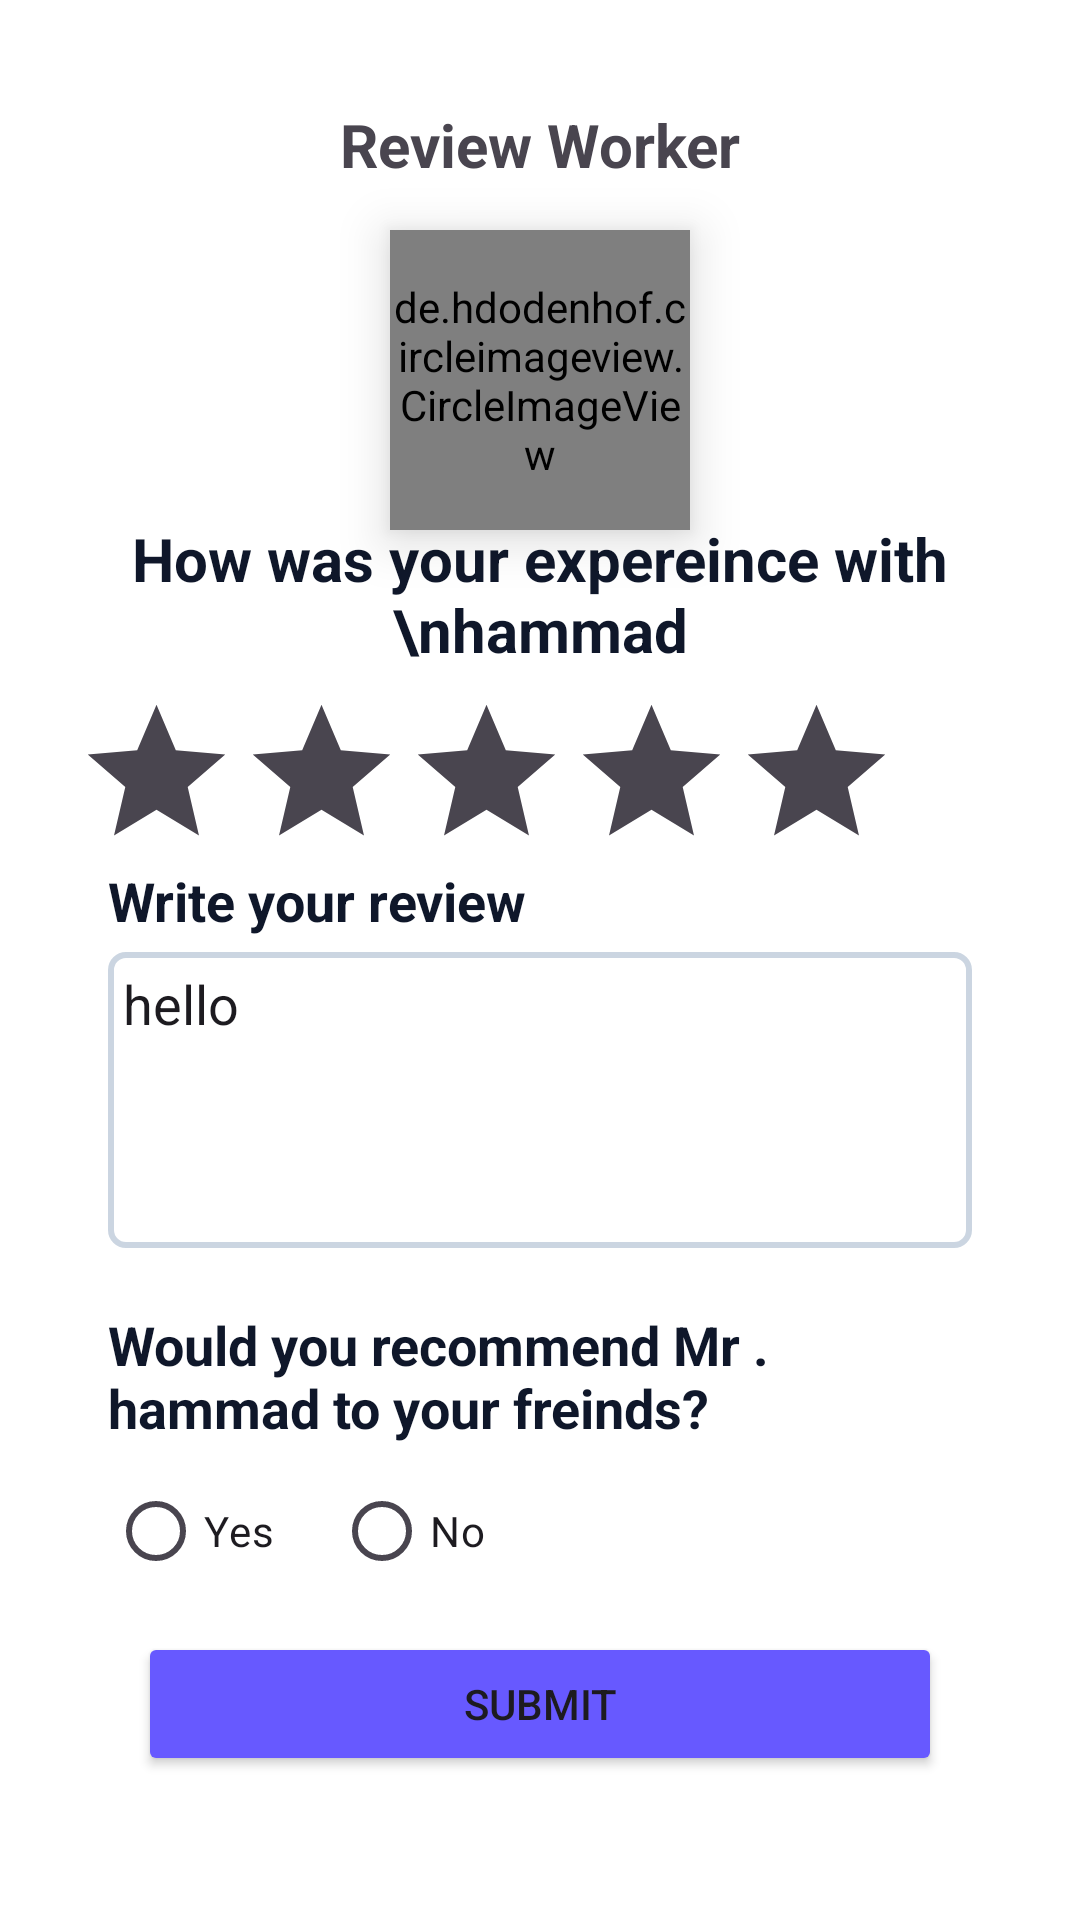

Named icons in this screenshot (1080×1920) and their bounding boxes, BBox(x1, y1, x2, y2):
star: BBox(88, 705, 225, 836), BBox(253, 705, 390, 836), BBox(418, 705, 555, 836), BBox(583, 705, 720, 836), BBox(748, 705, 885, 836)
